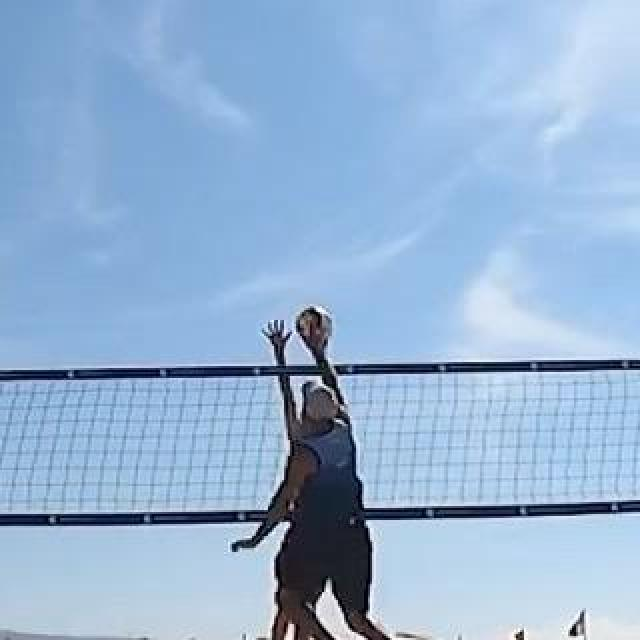volleyball: (296, 305, 330, 345)
